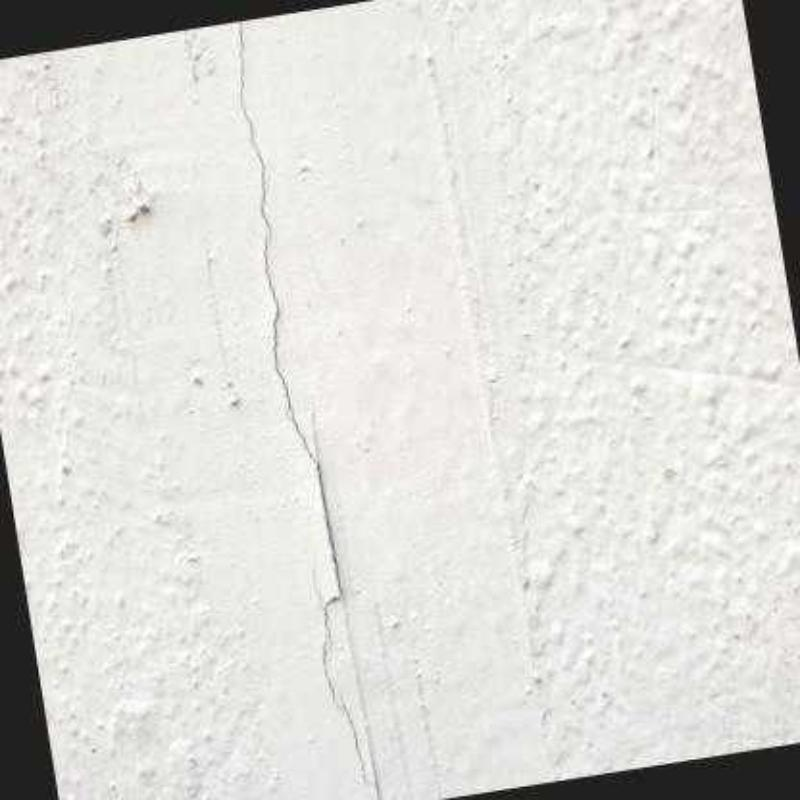crack: (234, 20, 386, 800)
